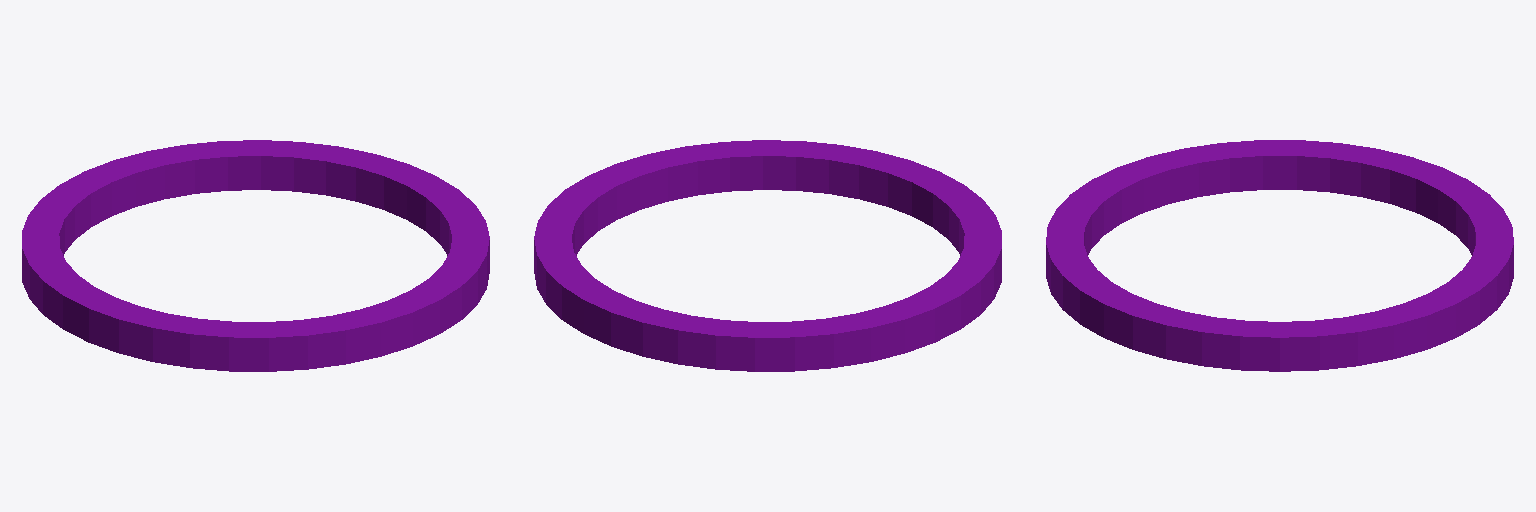
File: 360WalkWay.obj
The picture shows the model from 3 angles: view 1: azimuth 30°, elevation 25°; view 2: azimuth 150°, elevation 25°; view 3: azimuth 270°, elevation 25°; orthographic projection.
Visible parts, largest first — view 1: 360_WalkWay; view 2: 360_WalkWay; view 3: 360_WalkWay.
Boxes of the visible parts, <box> form: 360_WalkWay: <box>22,140,489,371</box>; 360_WalkWay: <box>534,140,1001,371</box>; 360_WalkWay: <box>1046,140,1513,371</box>.
Bounding box in the file's own units: 12437 × 1000 × 12448.